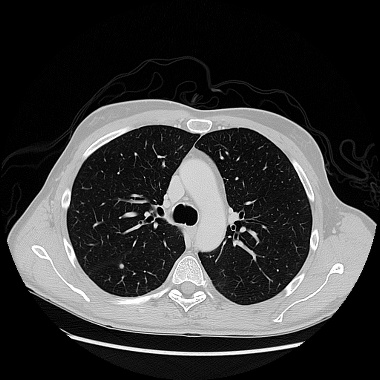PN: (118, 263, 124, 269)
